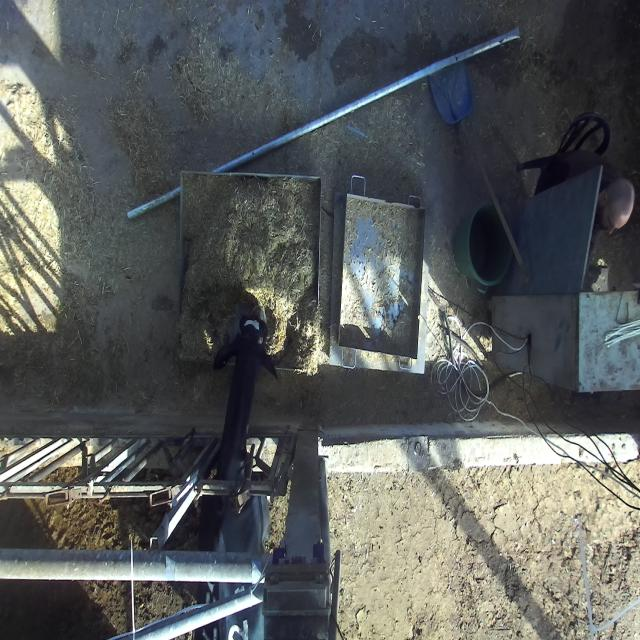cow: (211, 310, 277, 386)
